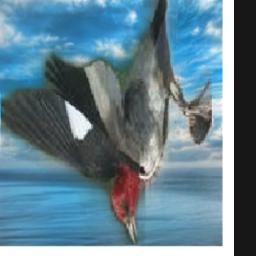Woodpecker: (1, 0, 212, 245)
